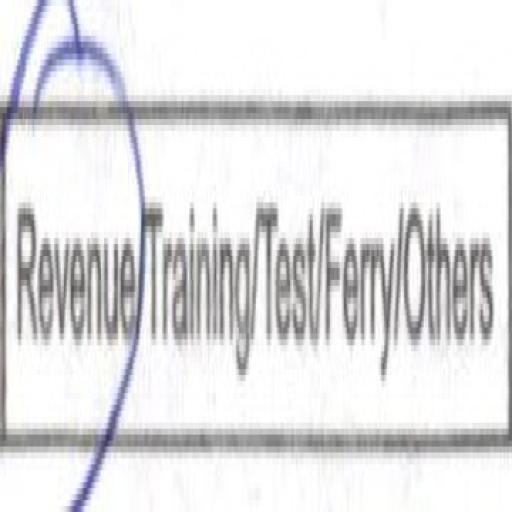check: (1, 0, 144, 510)
